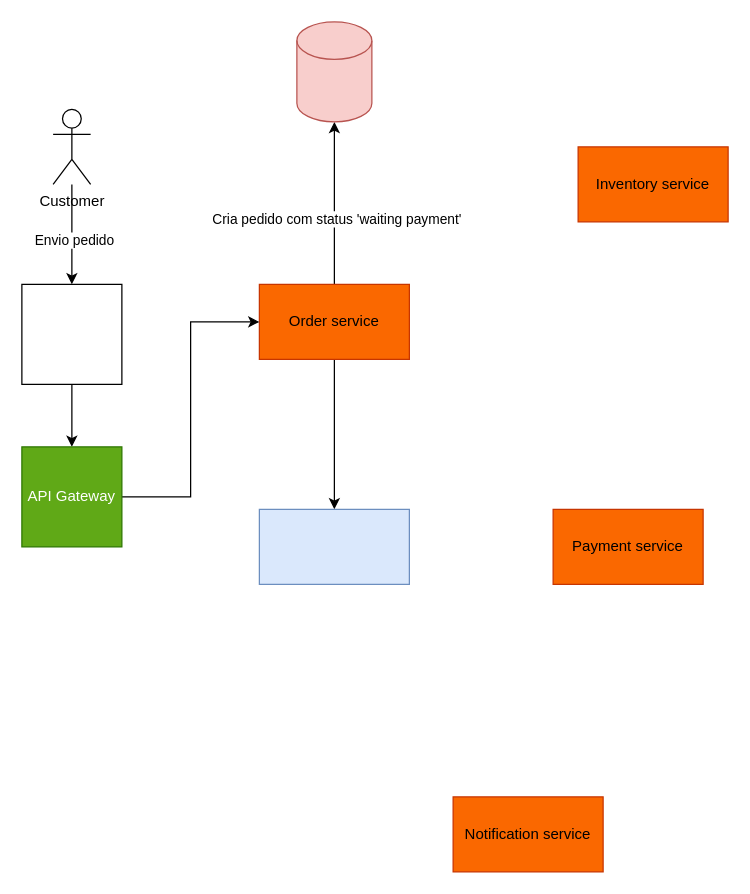
Image size: 750x894. Some labels were removed from this diagram. The shapes that lost their labels are listed below. From the top down, each one's centre as x and y in pixels, then its label:
At point 334,71: "Order DB".
At point 71,333: "FE".
At point 333,546: "Rabbit MQ Evento: novo pedido".
